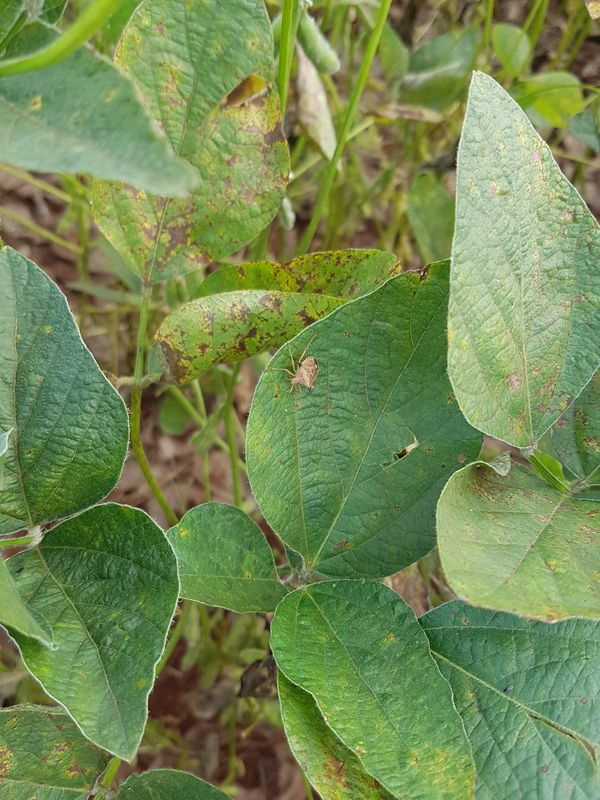Euschistus_heros_adulto: (266, 337, 332, 406)
